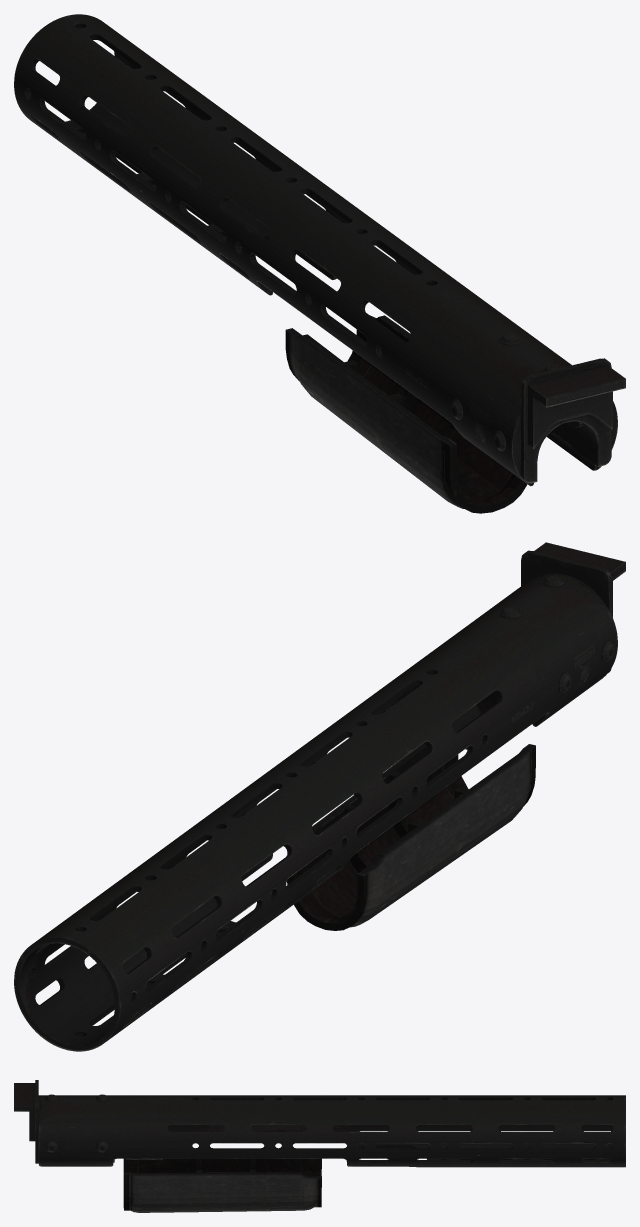
3 views of the same model, one above another, from view 1: azimuth 30°, elevation 25°; view 2: azimuth 150°, elevation 25°; view 3: azimuth 270°, elevation 25° (orthographic). The views are drawn at different scales.
Parts seen in each view (by area): view 1: TW_651bfe4d1065f87f082e7209_PZ_Import; view 2: TW_651bfe4d1065f87f082e7209_PZ_Import; view 3: TW_651bfe4d1065f87f082e7209_PZ_Import.
Part boxes in pixels (x1=…): TW_651bfe4d1065f87f082e7209_PZ_Import: x1=14, y1=14, x2=625, y2=513; TW_651bfe4d1065f87f082e7209_PZ_Import: x1=14, y1=542, x2=625, y2=1051; TW_651bfe4d1065f87f082e7209_PZ_Import: x1=14, y1=1080, x2=625, y2=1212.
Size of the model in its own units: 0.0248 by 0.1958 by 0.042.
Materials: 1 (1 with a texture image).
